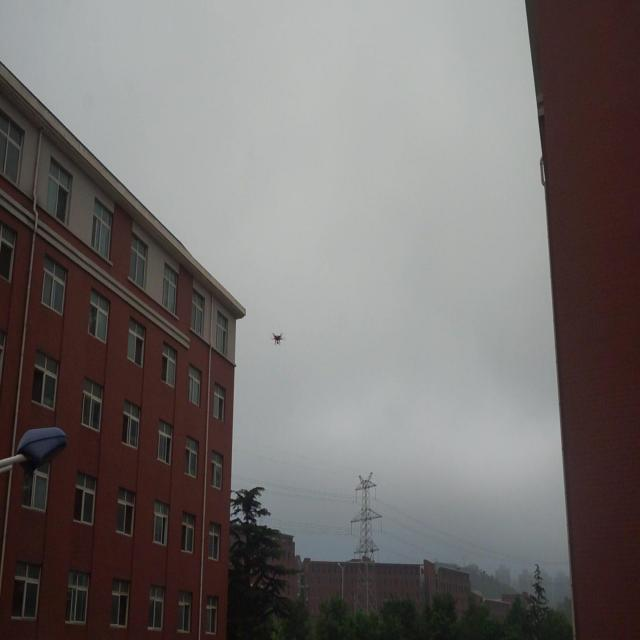UAV: (270, 333, 286, 346)
